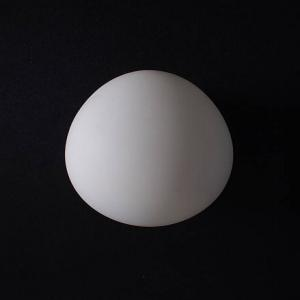Egg: (66, 69, 234, 227)
